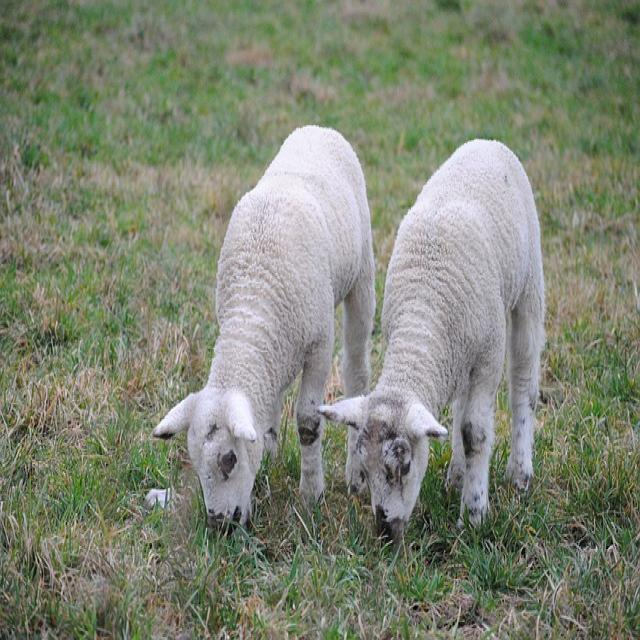goat: (153, 125, 377, 533), (336, 140, 548, 539)
